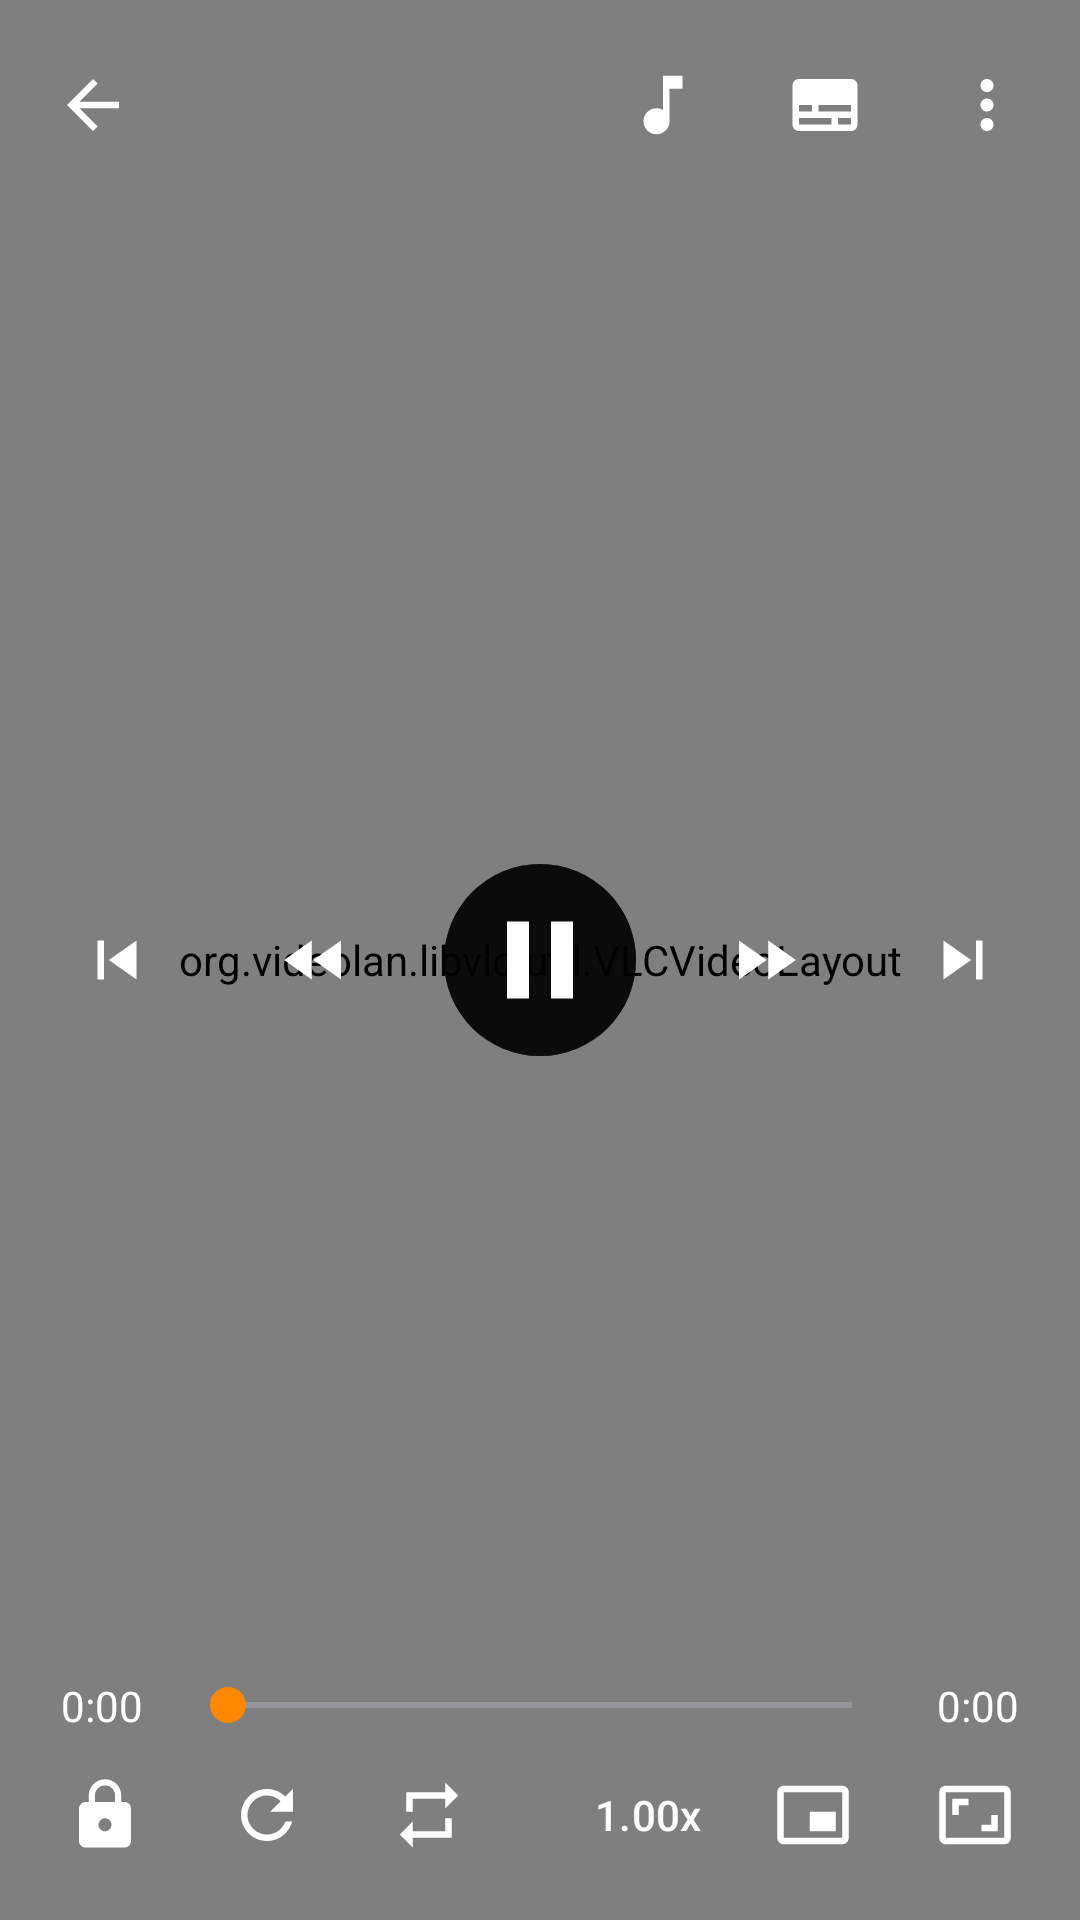

Where to tap for icons on this 1080 x 1920 app screen, as (x=x, y=y):
aspect: (x=975, y=1815)
back: (x=93, y=105)
lock: (x=105, y=1813)
more: (x=987, y=105)
music: (x=663, y=105)
pip: (x=813, y=1815)
repeat: (x=429, y=1815)
rotate: (x=267, y=1815)
subtitles: (x=825, y=105)
